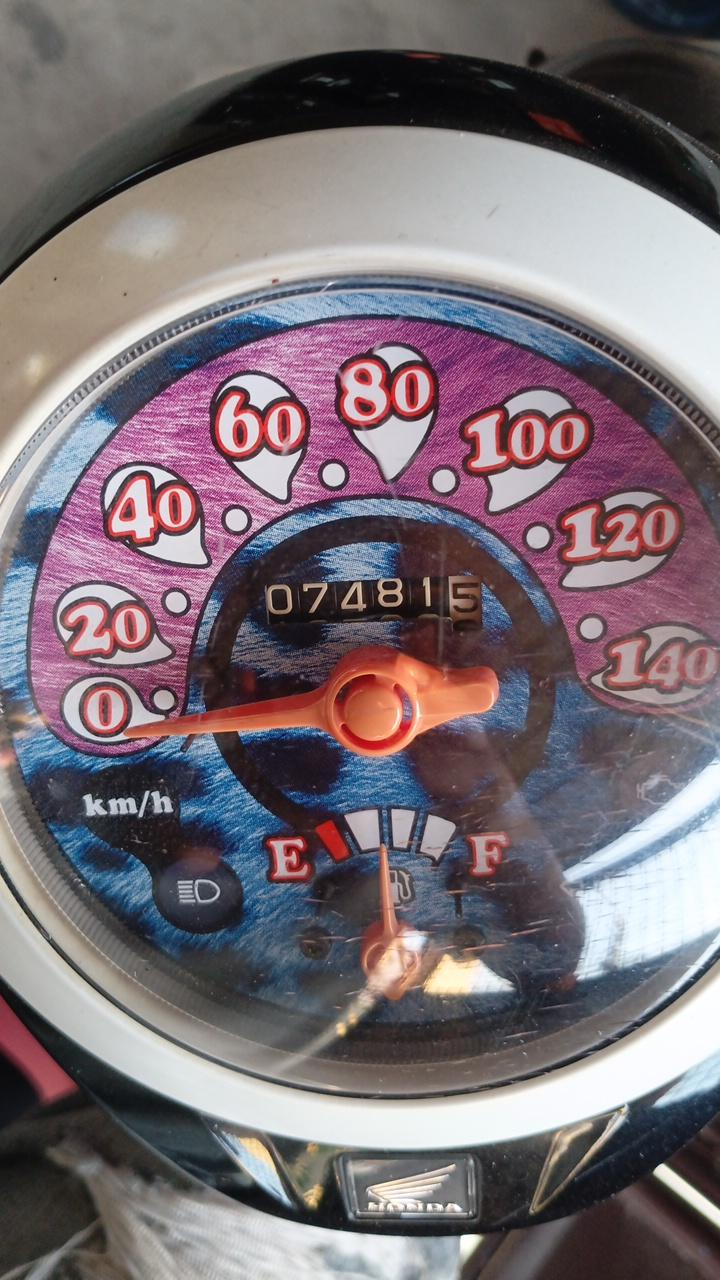0: (264, 582, 293, 616)
1: (422, 576, 433, 609)
4: (339, 580, 368, 612)
5: (452, 580, 481, 614)
7: (299, 582, 329, 615)
8: (375, 577, 405, 608)
odometer: (260, 572, 487, 641)
